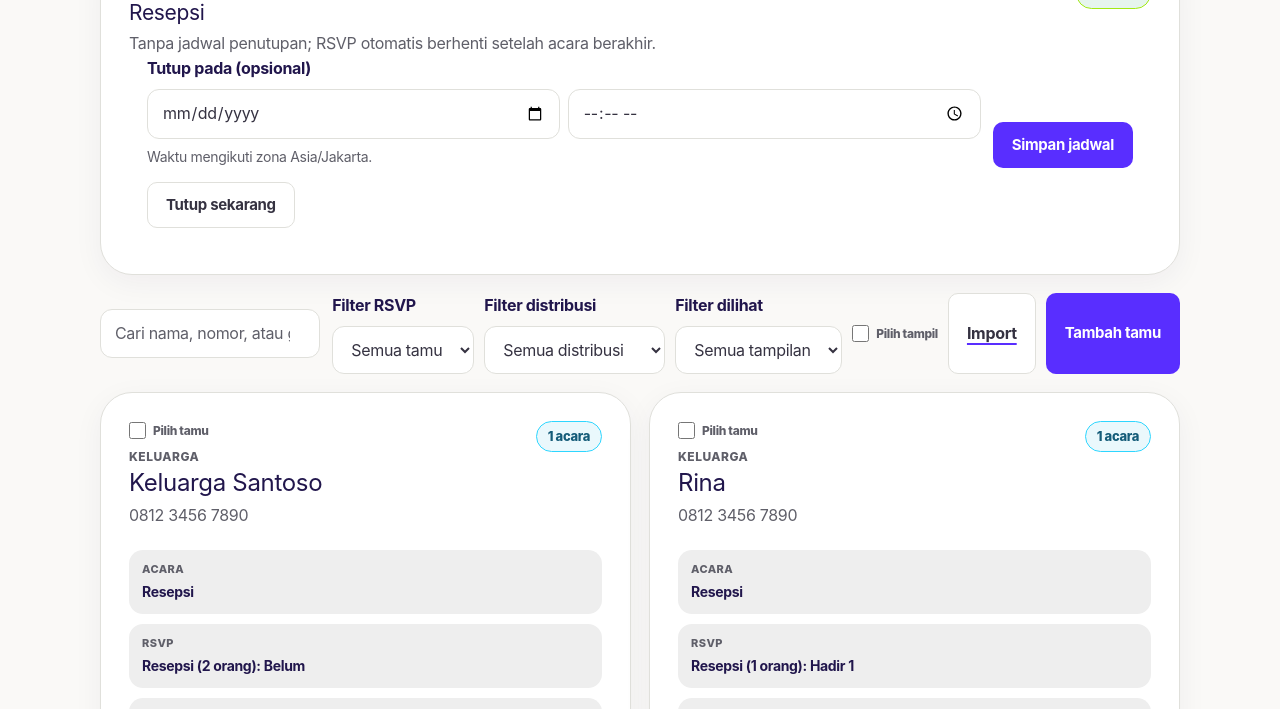
GuestsManager › filters the guest list to parties with an unanswered RSVP
(page scrolled)
Select "Belum RSVP" in the dropdown labelled "Filter RSVP": {"x": 403, "y": 350} [332,326,474,374]
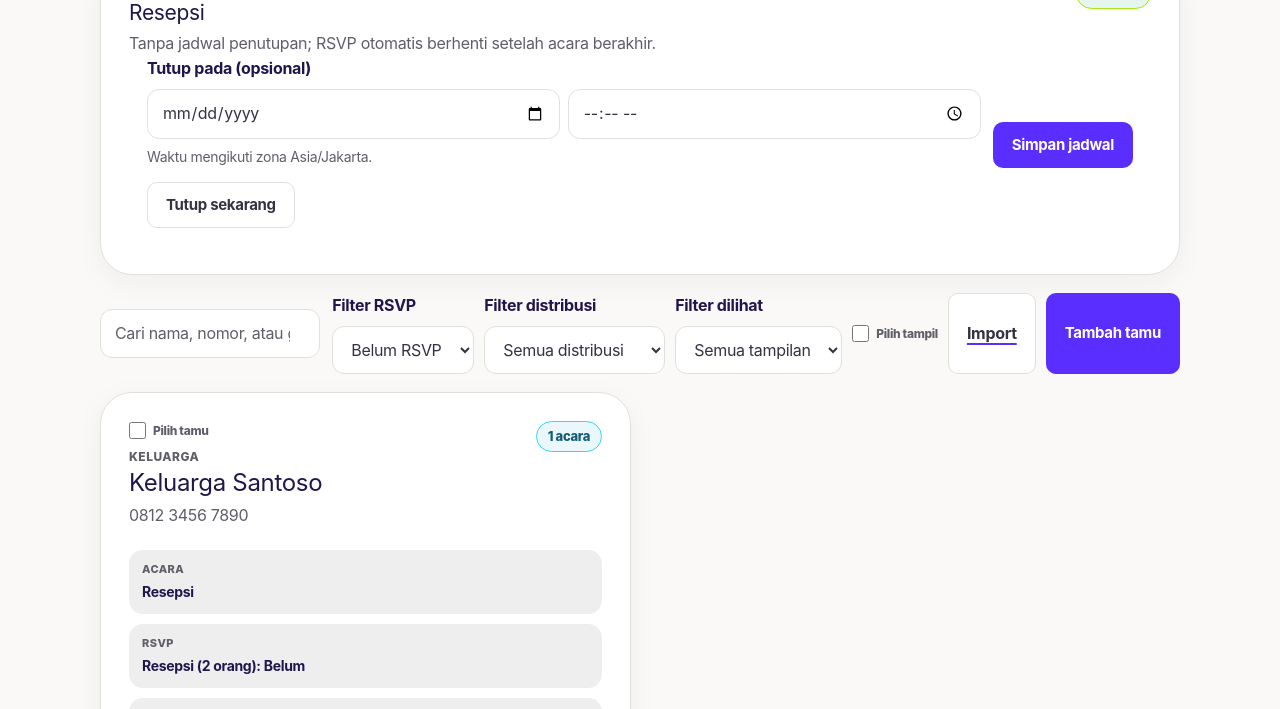
Expected: the heading "Keluarga Santoso" is shown, [129,469,322,497]
Now the heading "Rina" is gone
